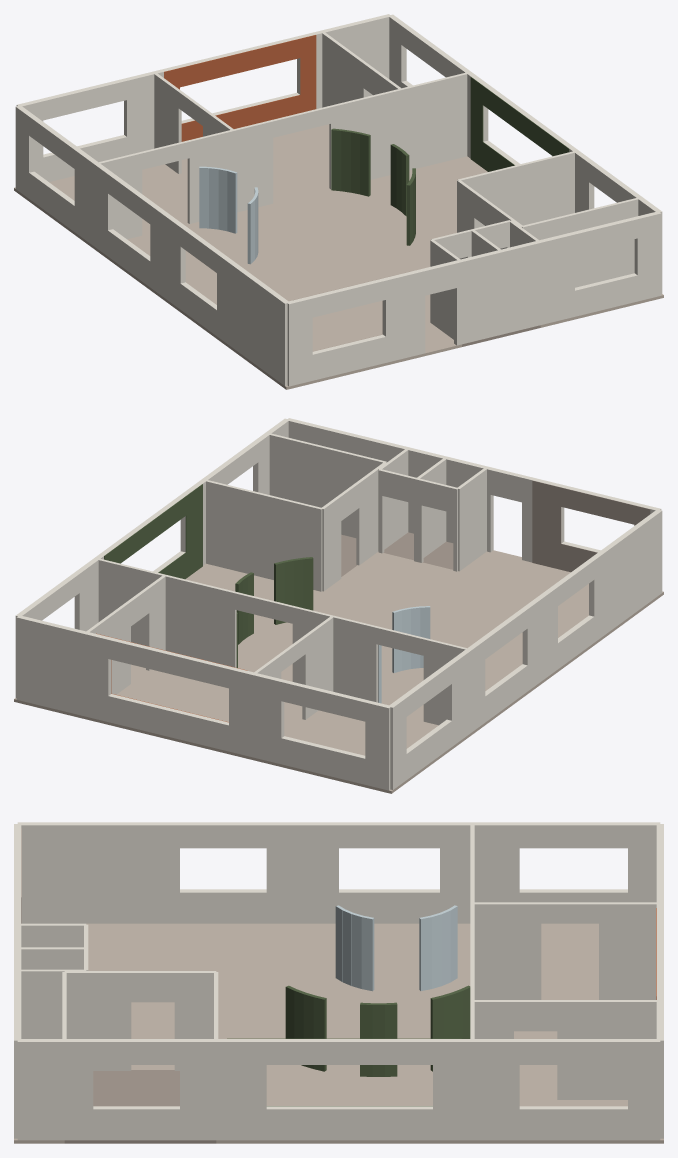
3 renders of one model, top to bottom at view 1: azimuth 30°, elevation 25°; view 2: azimuth 150°, elevation 25°; view 3: azimuth 270°, elevation 25°, orthographic. The views are drawn at different scales.
Visible parts, largest first — view 1: oficina_3_estructura; view 2: oficina_3_estructura; view 3: oficina_3_estructura.
Part boxes in pixels (x1=…): oficina_3_estructura: x1=14, y1=14, x2=663, y2=389; oficina_3_estructura: x1=14, y1=418, x2=663, y2=793; oficina_3_estructura: x1=14, y1=822, x2=663, y2=1143.
Bounding box in the file's own units: 14.4 × 18 × 3.1.
